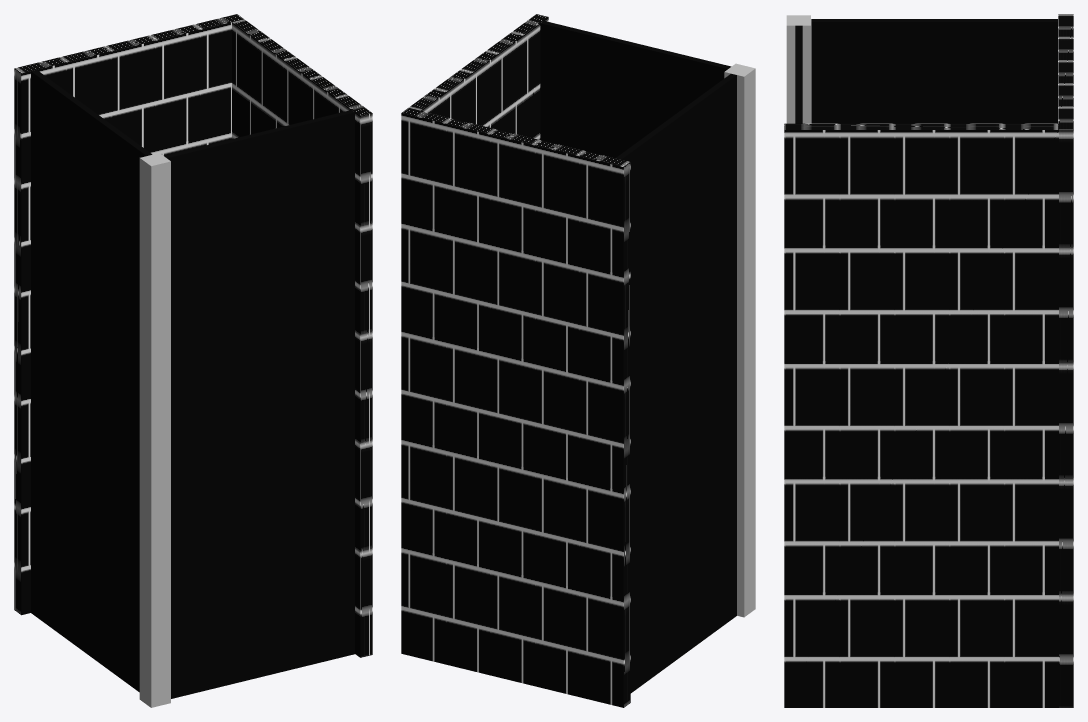
File: shower.FBX
The picture shows the model from 3 angles, left to right: view 1: azimuth 30°, elevation 25°; view 2: azimuth 150°, elevation 25°; view 3: azimuth 270°, elevation 25°; orthographic projection. The views are drawn at different scales.
Parts seen in each view (by area): view 1: Shower; view 2: Shower; view 3: Shower.
Boxes of the visible parts, box(x1,y1,x2,y2) form: Shower: box(14, 14, 372, 707); Shower: box(401, 14, 755, 707); Shower: box(784, 14, 1073, 707).
Bounding box in the file's own units: 22.42 × 23.61 × 52.09.
